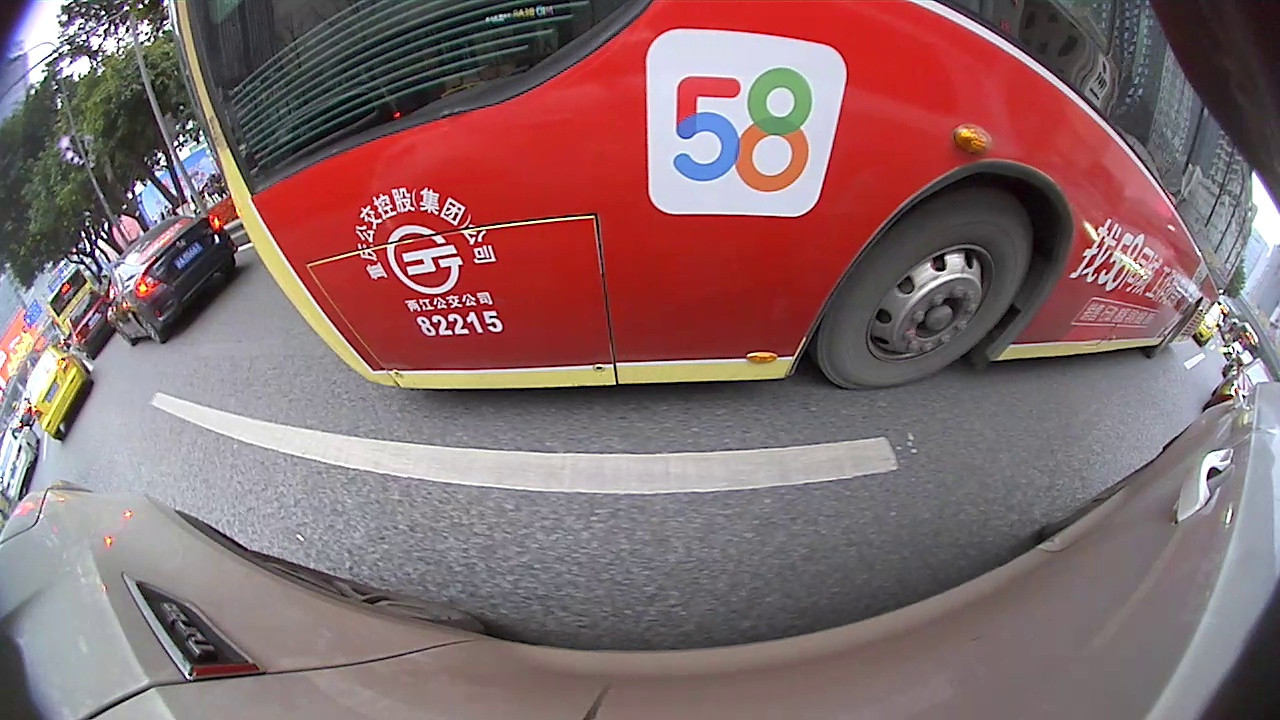bus: (159, 0, 1257, 398)
car: (109, 211, 242, 351), (20, 342, 95, 444), (66, 290, 122, 355)
front: (809, 187, 1038, 394)
rear: (1145, 301, 1203, 359), (132, 312, 170, 346)
